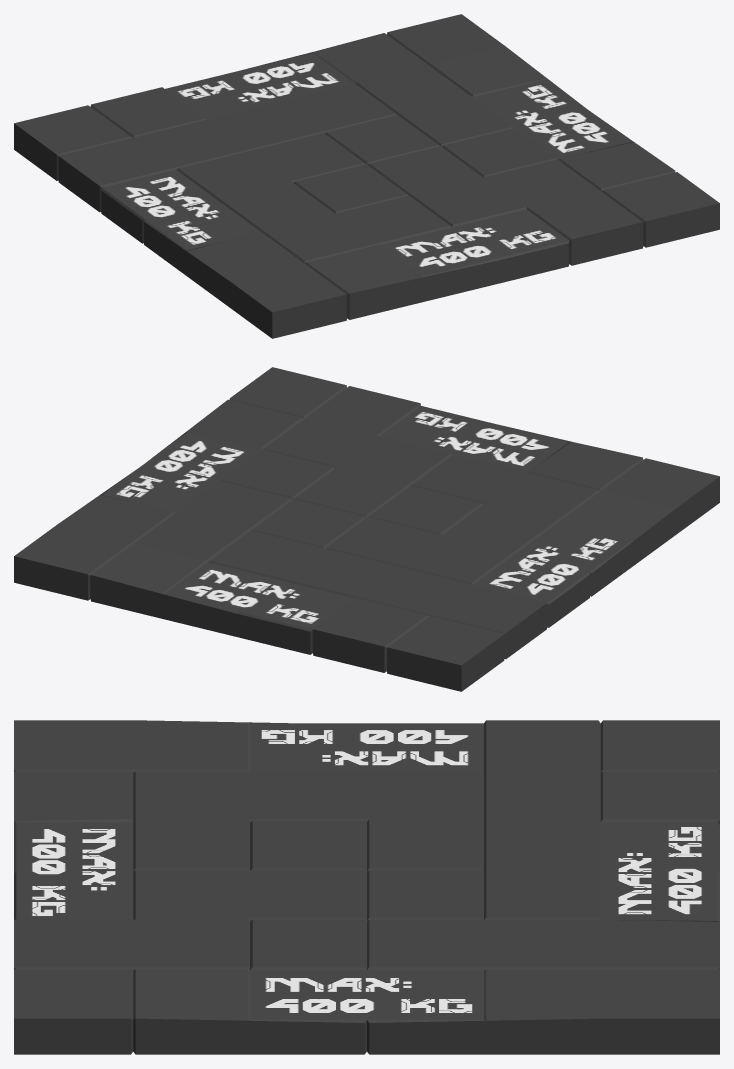
Rendered from pressurePlateBase.glb.
3 renders of one model, top to bottom at view 1: azimuth 30°, elevation 25°; view 2: azimuth 150°, elevation 25°; view 3: azimuth 270°, elevation 25°, orthographic. The views are drawn at different scales.
Visible parts, largest first — view 1: Pressure Plate; view 2: Pressure Plate; view 3: Pressure Plate.
Boxes of the visible parts, left/top/right/bottom form: Pressure Plate: left=14, top=14, right=719, bottom=338; Pressure Plate: left=14, top=367, right=719, bottom=691; Pressure Plate: left=14, top=720, right=719, bottom=1054.
Size of the model in its own units: 2.96 by 0.1671 by 2.96.
2 materials, 1 textured.
